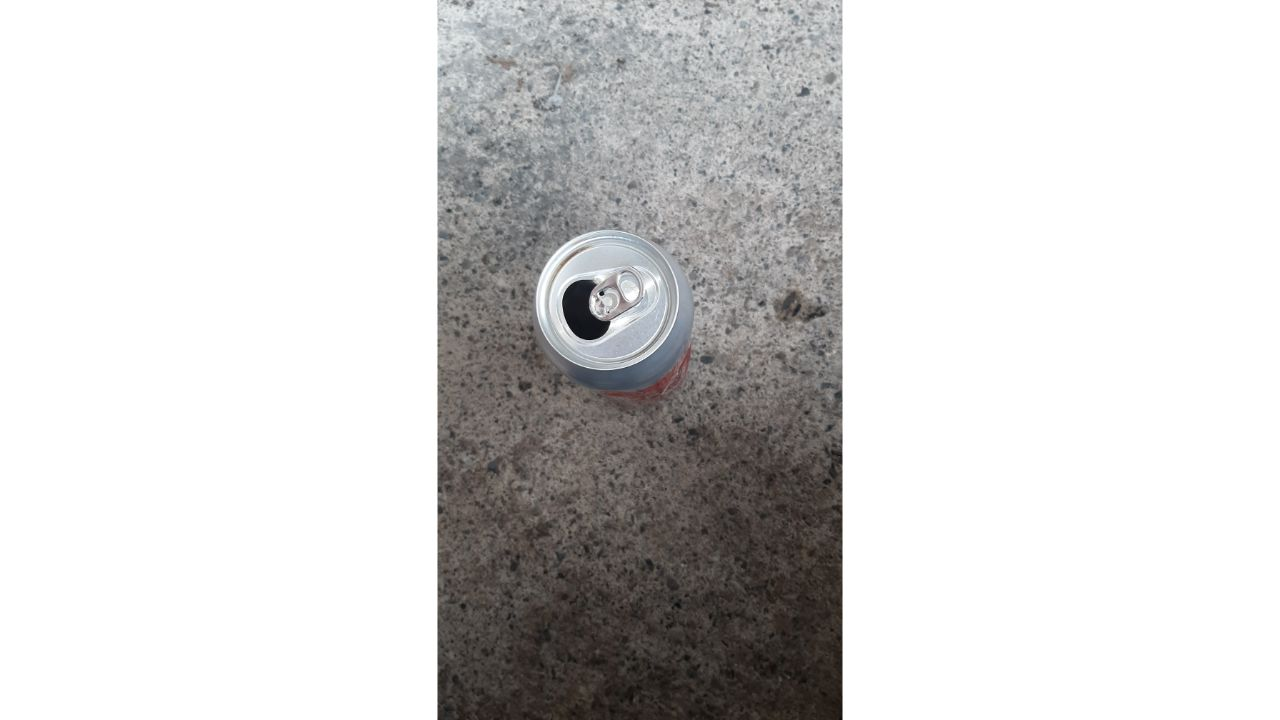Can: (512, 211, 720, 421)
